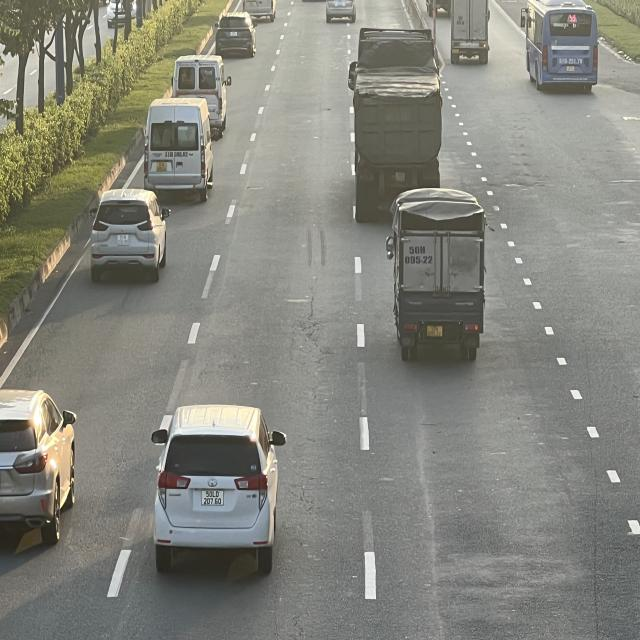car: (155, 407, 289, 575), (91, 188, 173, 278), (216, 14, 258, 59)
coach: (524, 0, 600, 91)
container: (349, 29, 447, 228)
truck: (388, 189, 489, 365), (451, 0, 492, 62)
van: (146, 98, 215, 201), (172, 55, 232, 136)
